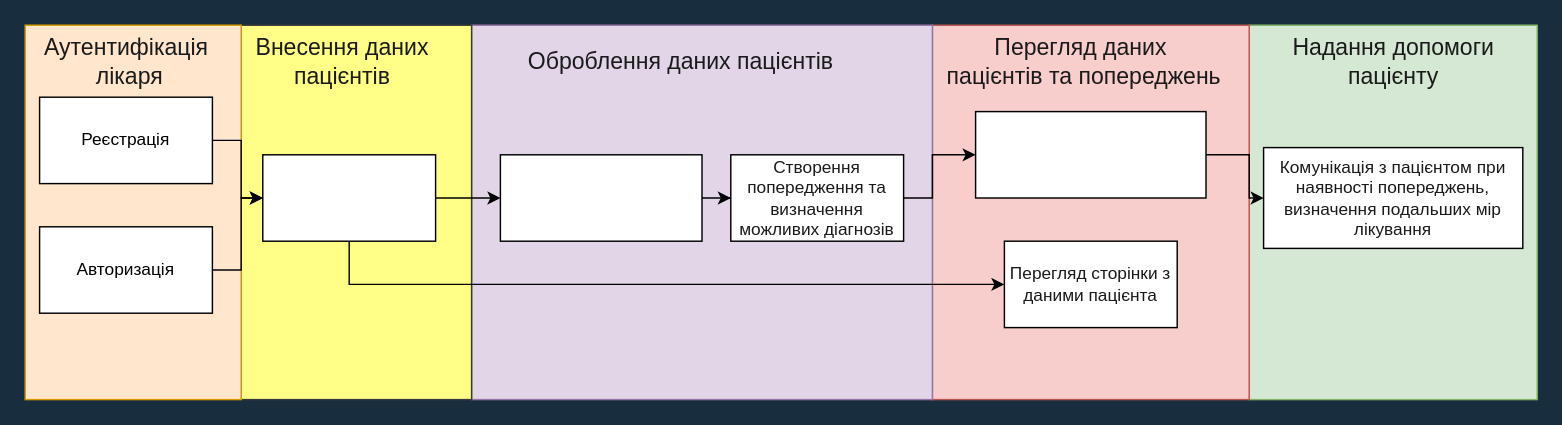
This 1562x425 diagram has some shape labels left out. Here are the shapes that lost their labels. From the top down, the centre of each, then its label:
[1090,154]: Перевірка попереджень щодо ненормальних змін показників здоров'я
[348,197]: Створення записів пацієнтів
[600,197]: Комплексний аналіз показників здоров'я пацієнтів
